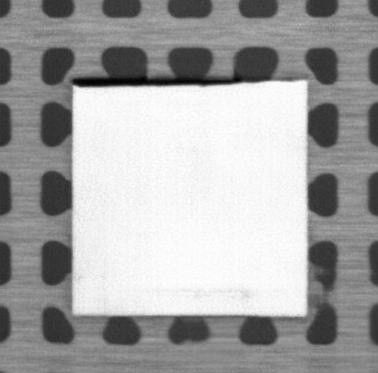DIE_BROKEN: (69, 74, 263, 89)
